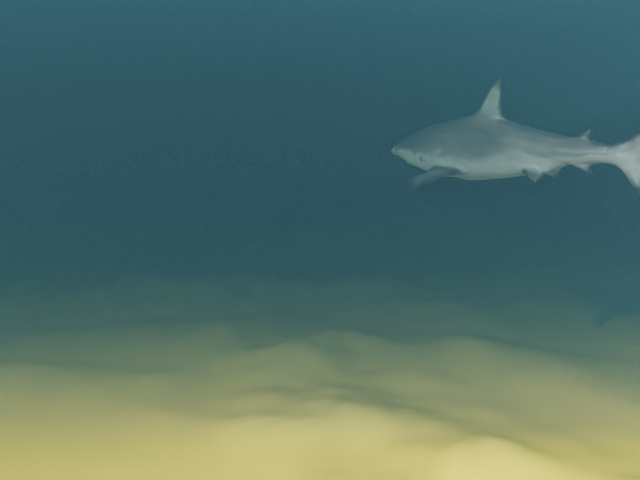Carribean Shark.001: (391, 78, 640, 199)
